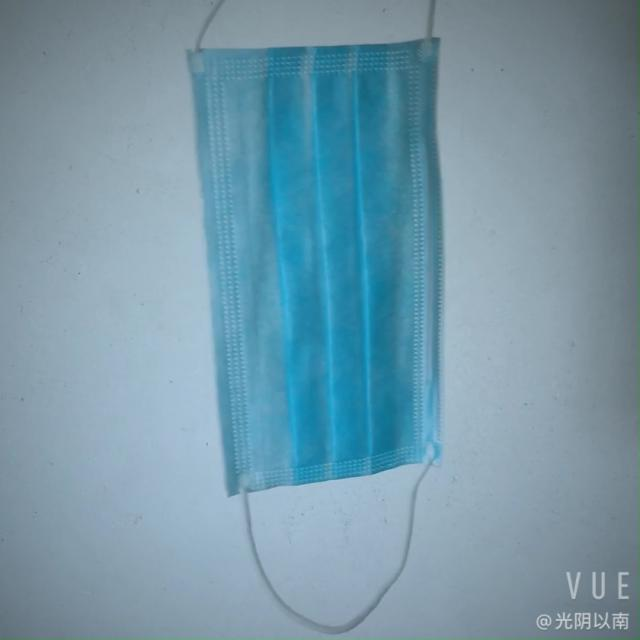face mask: (175, 20, 442, 493)
